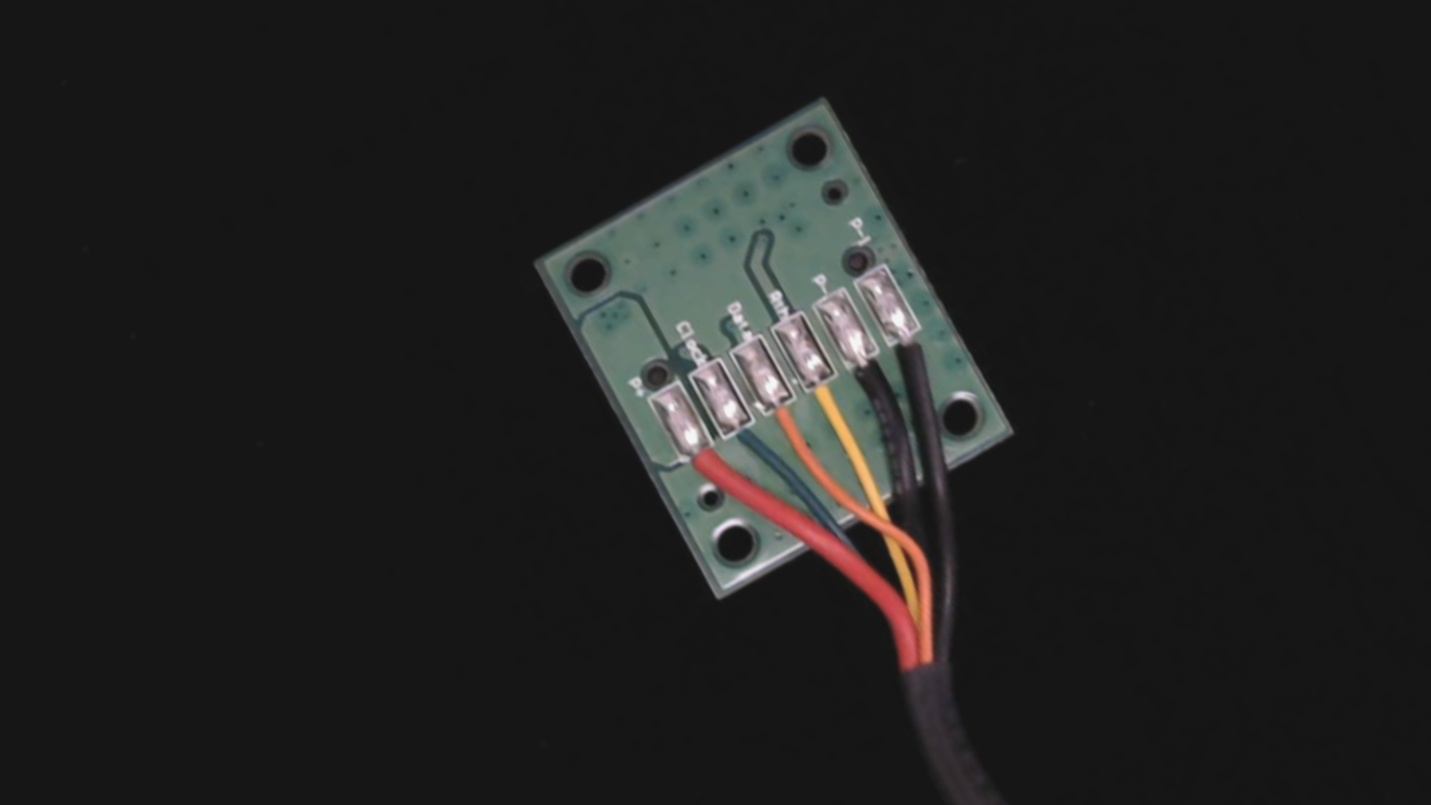Black: (829, 330, 917, 427)
Black1: (879, 306, 959, 395)
Green: (710, 402, 783, 482)
Orange: (749, 376, 834, 471)
Red: (668, 424, 748, 512)
Yellow: (786, 355, 875, 453)
